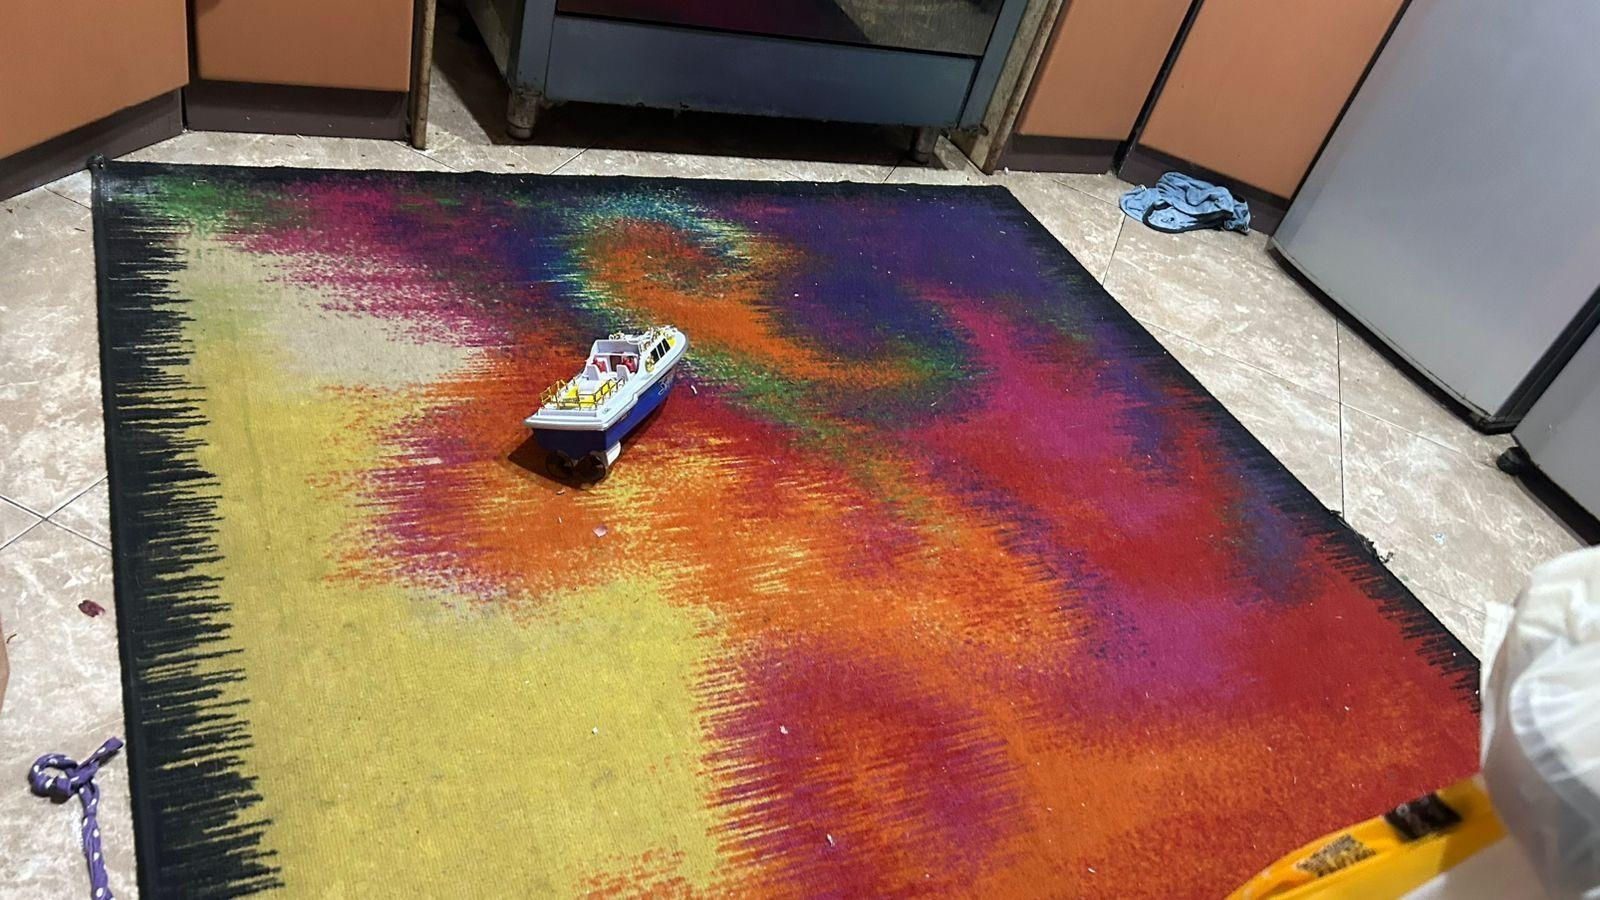Boat: (518, 311, 697, 478)
